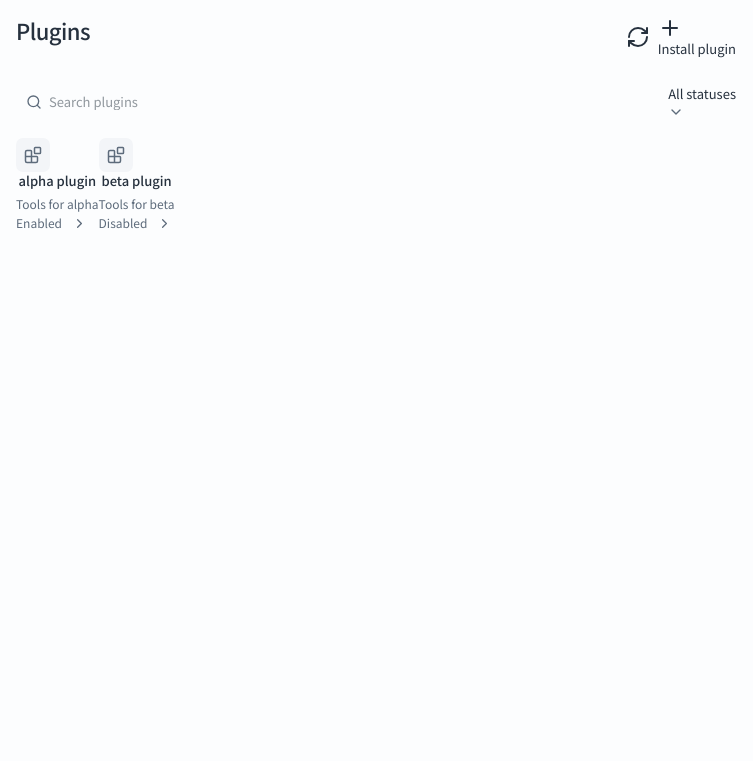
Test case: installation receipts preserve subsequent detail navigation
expect the button with aria-label "Open alpha plugin" is shown: met, box [16,138,99,233]
Click the button "Install plugin": [697, 37] box [658,16,736,59]
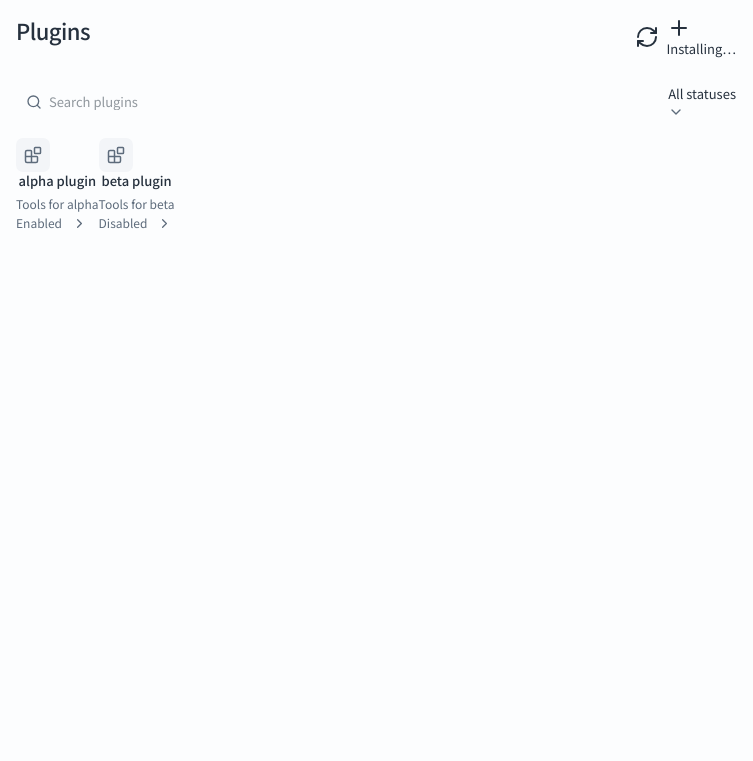
Click the button with aria-label "Open beta plugin": [137, 185] box [99,138,174,233]
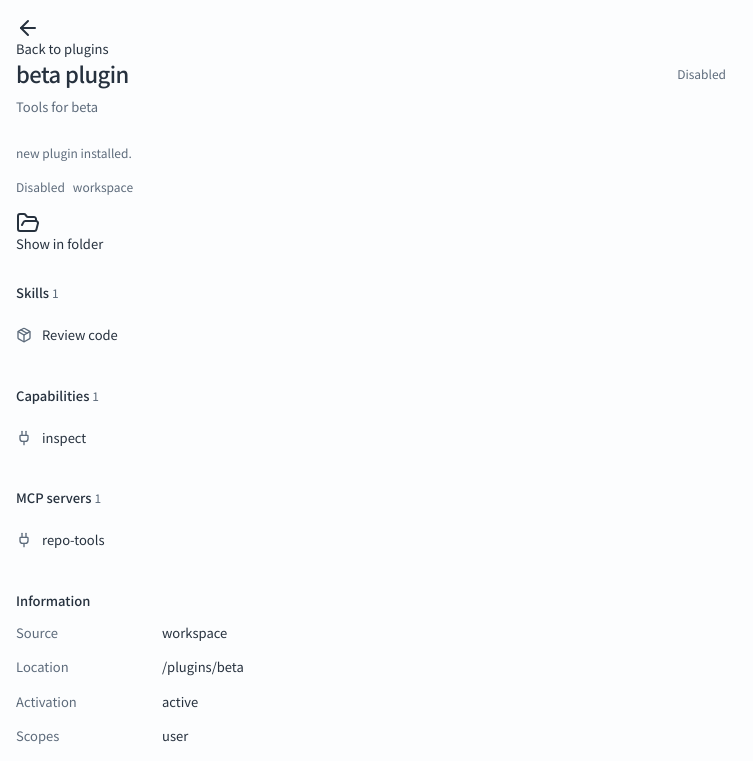
expect the heading "beta plugin" is shown: met, box [16,59,129,90]
expect the text "new plugin installed." is shown: met, box [16,146,132,160]
expect the heading "MCP servers 1" is shown: met, box [16,490,101,506]
